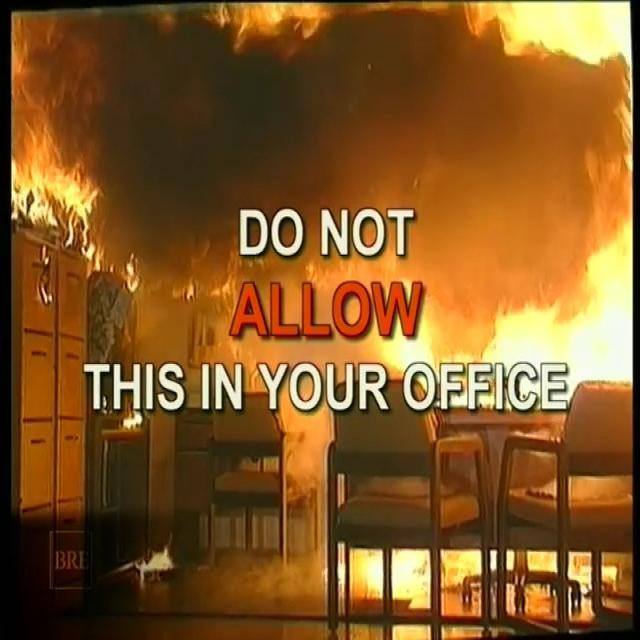Fire: (8, 1, 640, 402)
